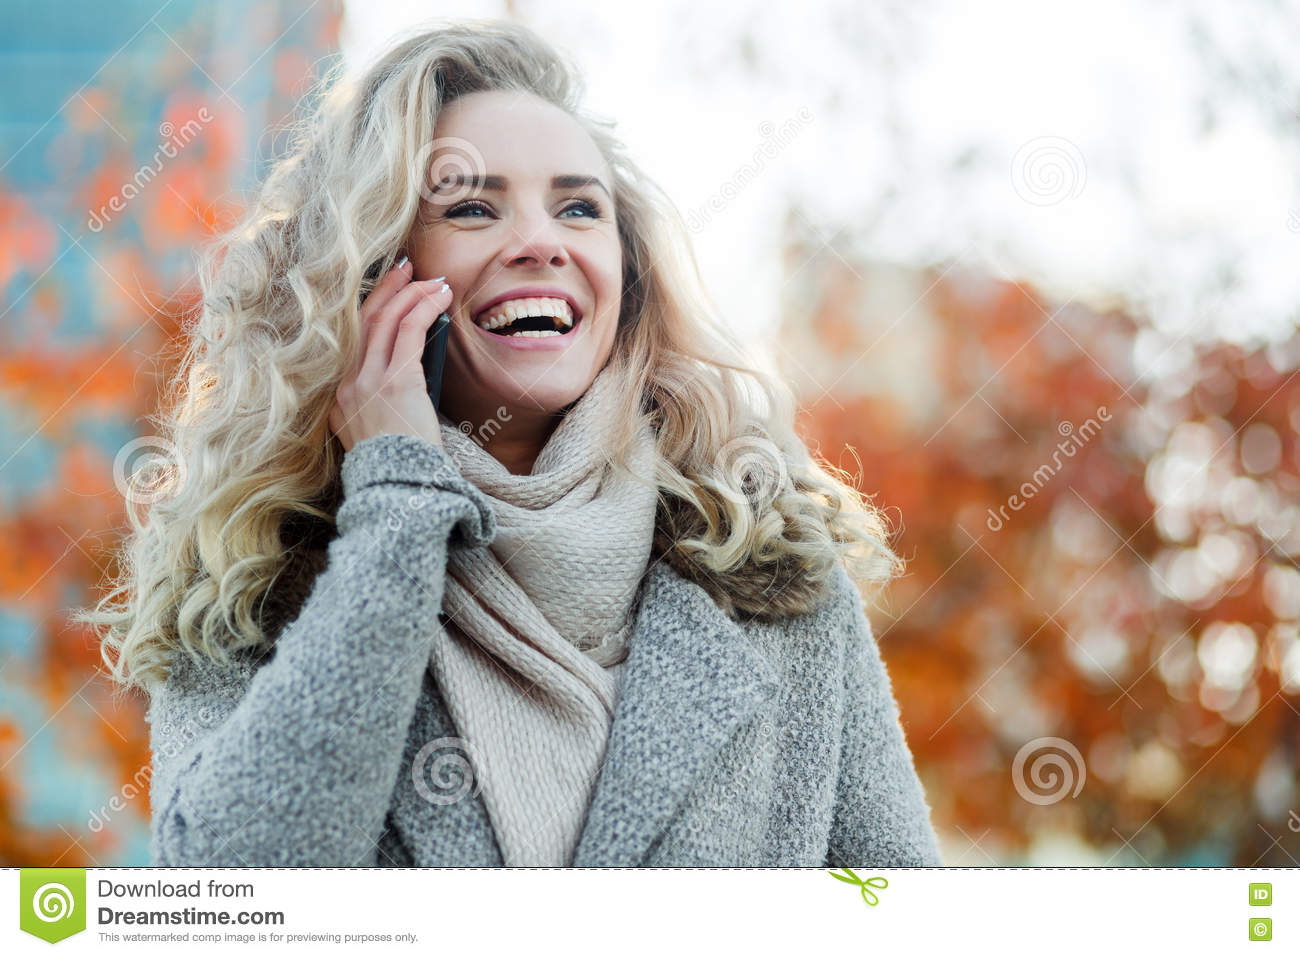talk: (327, 156, 619, 466)
